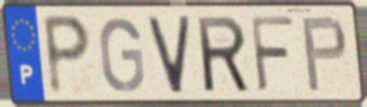F: (248, 13, 297, 95)
G: (97, 15, 147, 95)
P: (40, 12, 94, 99), (299, 13, 350, 94)
R: (194, 13, 253, 96)
V: (145, 13, 194, 97)
